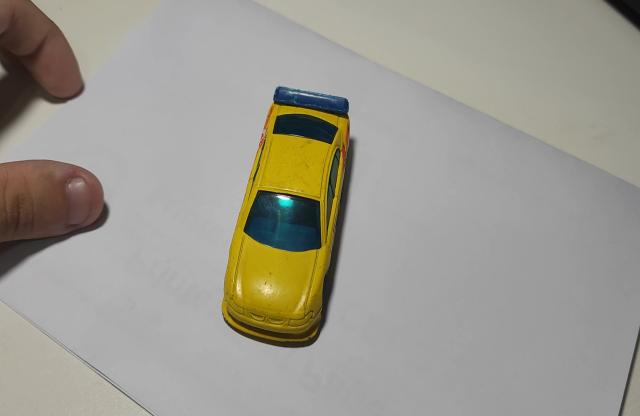02_OZSOME: (222, 87, 351, 342)
